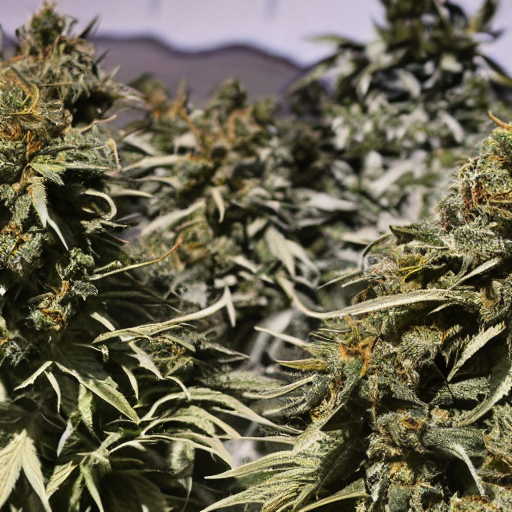Marijuana Joint: (275, 101, 512, 512), (1, 20, 121, 404)
